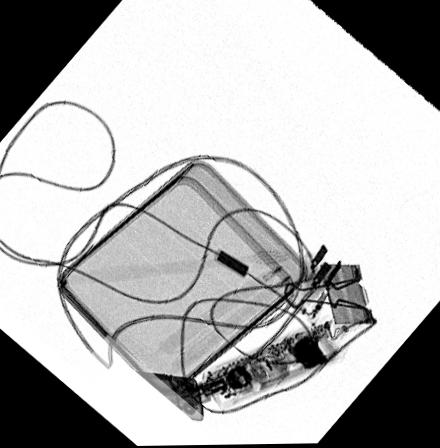Lighter: (133, 370, 203, 423)
